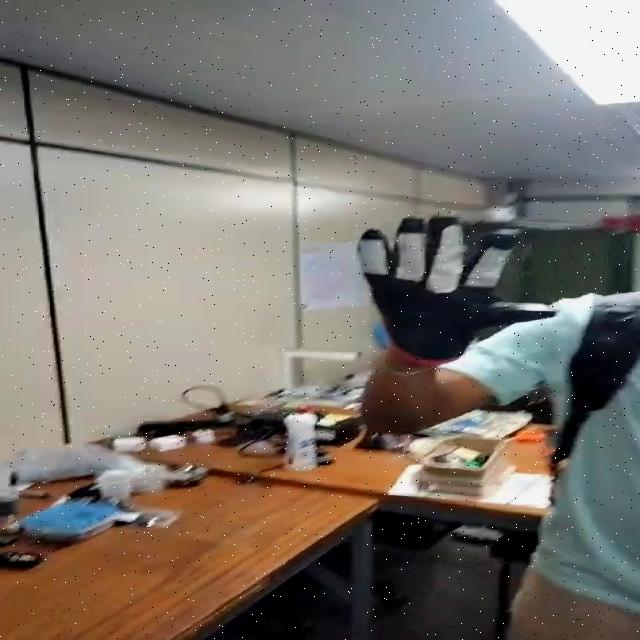Gloves: (352, 210, 558, 366)
